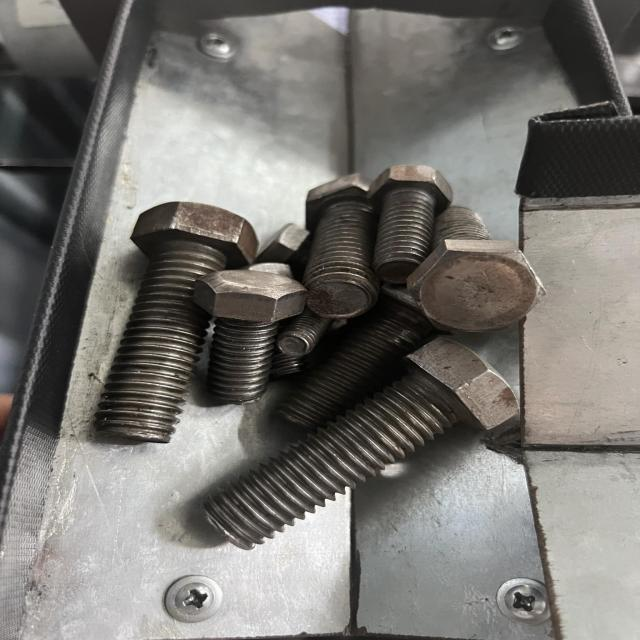bolt: (207, 338, 524, 548), (97, 201, 252, 441), (204, 270, 300, 406)
